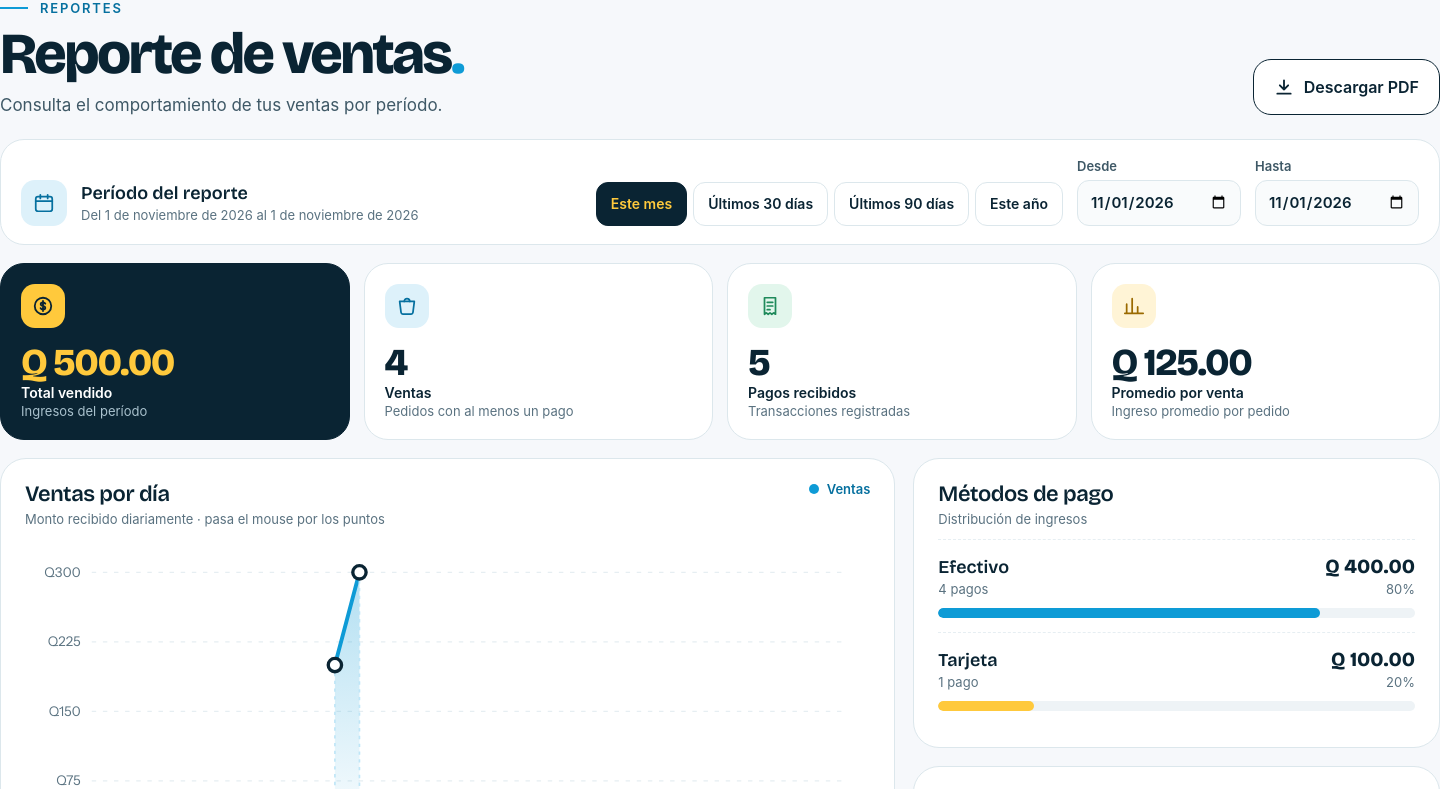
SalesReportPage › rechaza un período invertido antes de consultar la API
The image size is (1440, 789).
Check: the text "Q 500.00" is shown, box [21, 340, 174, 385]
In the date field named "Fecha de inicio": (1159, 203) [1077, 180, 1241, 226], type "2026-09-30"
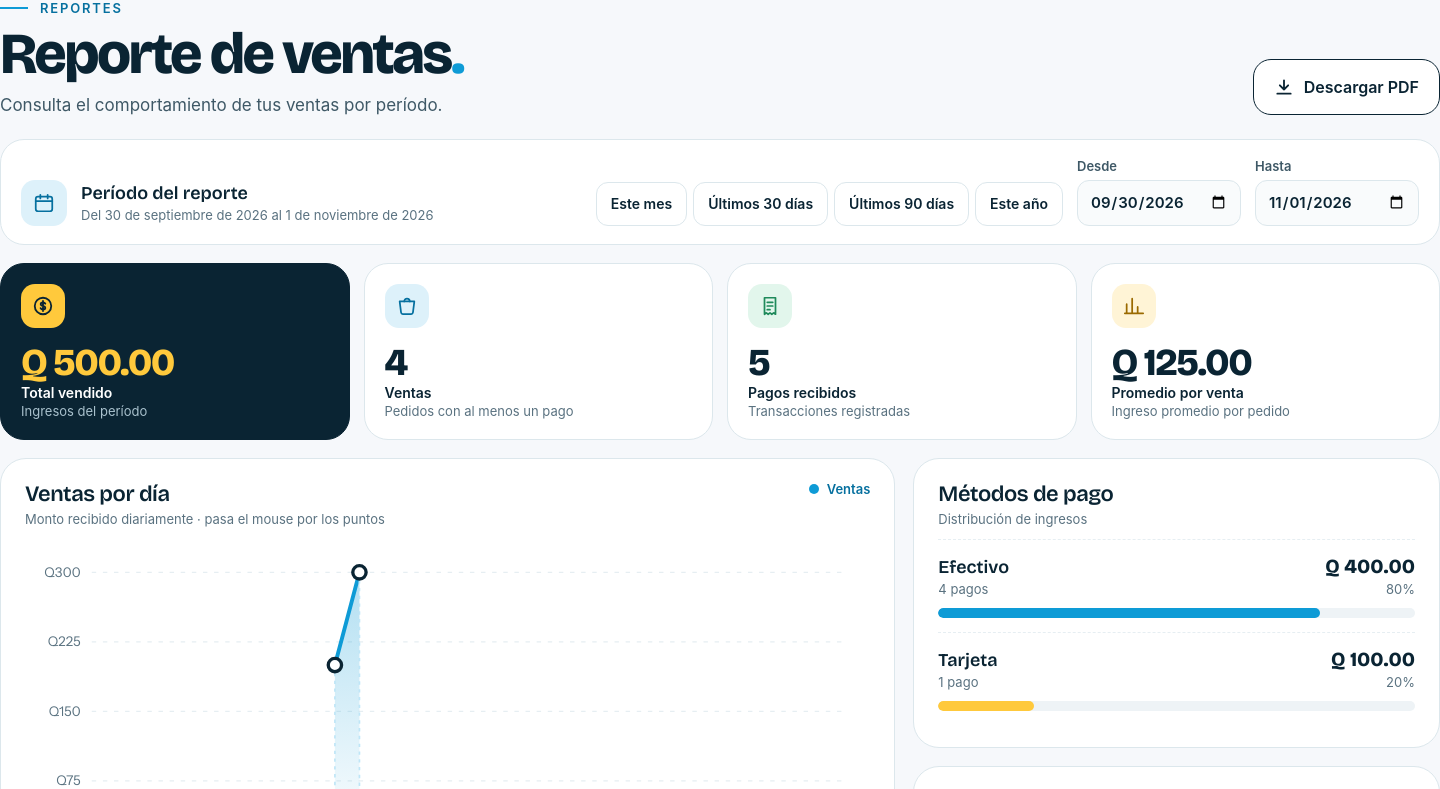
In the date field named "Fecha final": (1337, 203) [1255, 180, 1419, 226], type "2026-09-01"
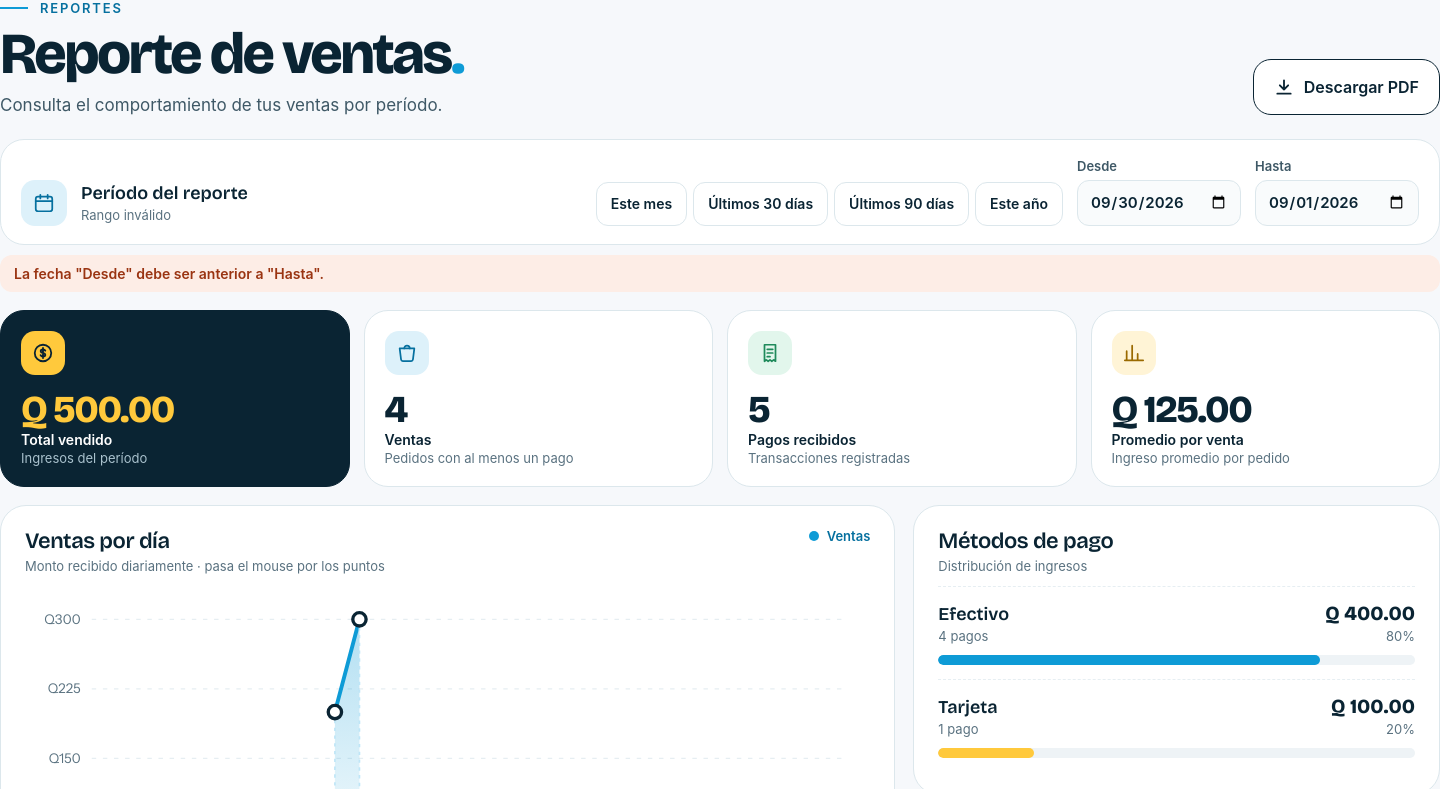
Check: the message shows "debe ser anterior", box [14, 265, 324, 282]
